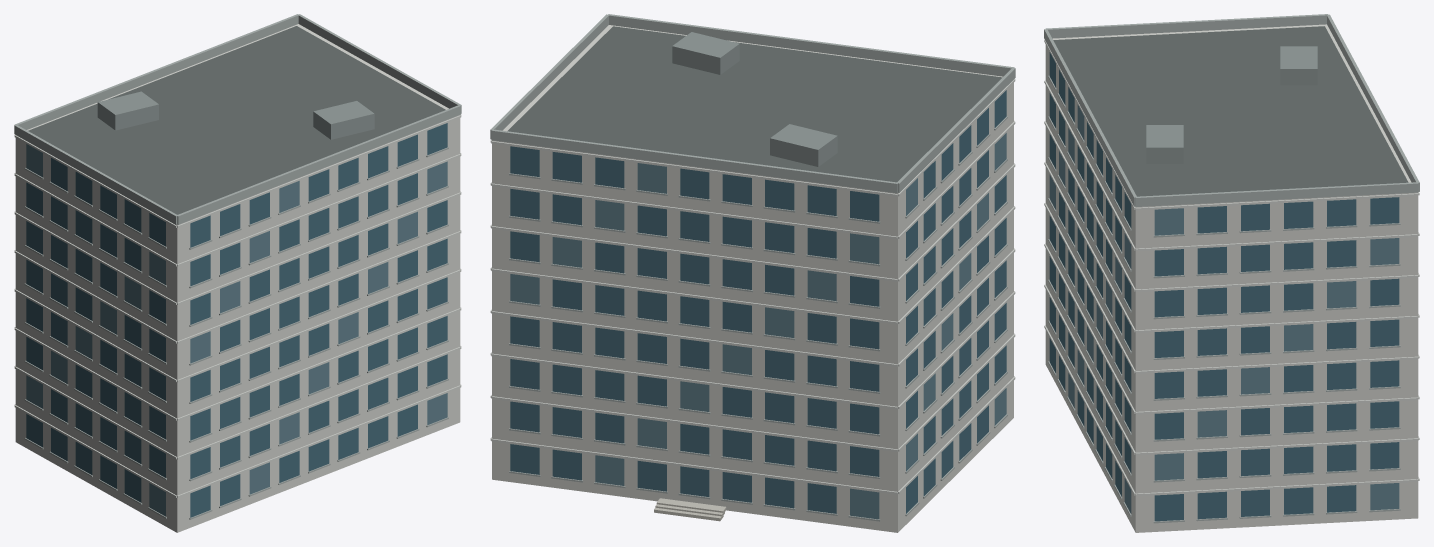
Rendered from 核心区西侧-016.glb.
3 renders of one model, left to right at view 1: azimuth 30°, elevation 25°; view 2: azimuth 150°, elevation 25°; view 3: azimuth 270°, elevation 25°, orthographic. The views are drawn at different scales.
Visible parts, largest first — view 1: 核心区西侧-016; view 2: 核心区西侧-016; view 3: 核心区西侧-016.
Boxes of the visible parts, x1,y1,x2,y2 form: 核心区西侧-016: (14, 14, 461, 532); 核心区西侧-016: (490, 14, 1015, 532); 核心区西侧-016: (1044, 14, 1419, 532).
Bounding box in the file's own units: 32.63 × 28.42 × 28.15.
